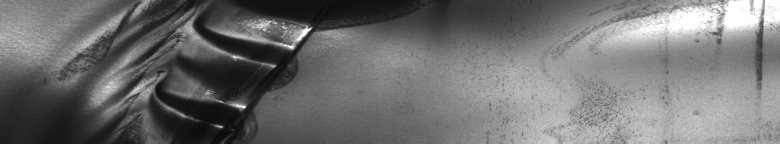ke: (61, 4, 367, 134)
